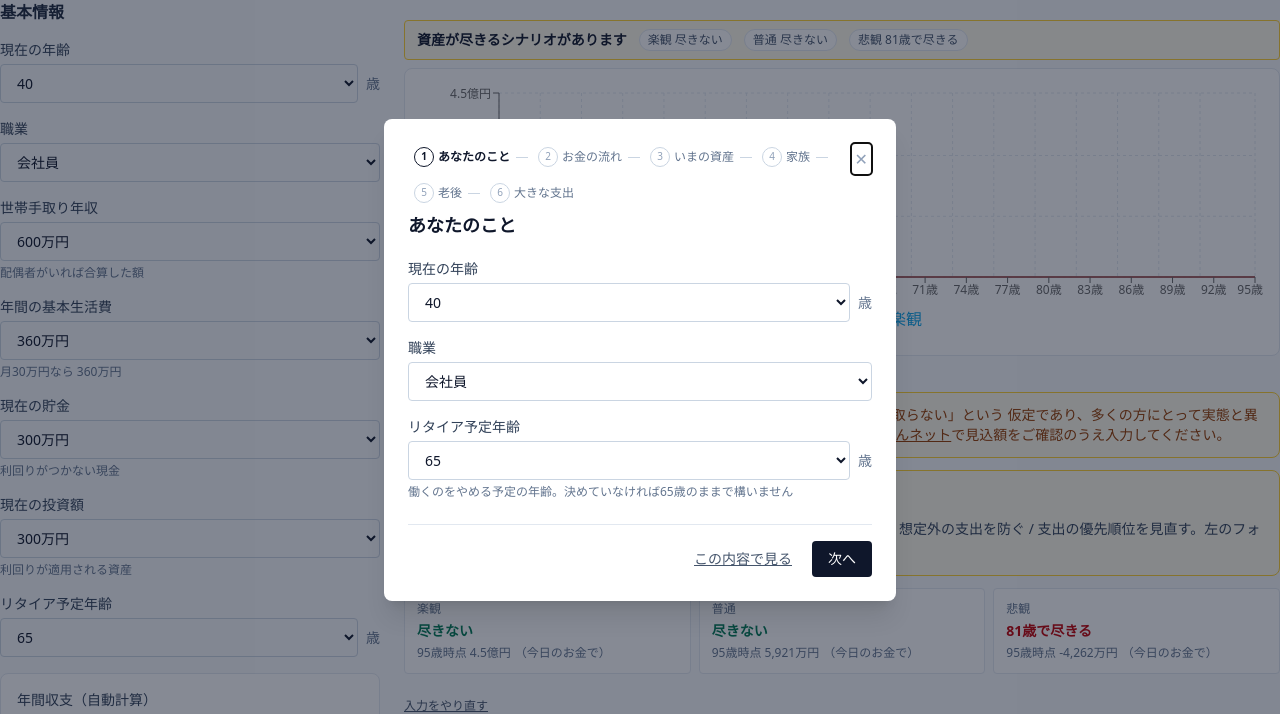
Test: ポップアップ › 既定値のまま1項目も変えずにモーダルを閉じても保存される（Finding M-3）
The image size is (1280, 714).
Expected: the dialog is shown, [384, 119, 896, 601]
Click the button named "閉じる". click: (861, 159)
box: [851, 143, 872, 175]
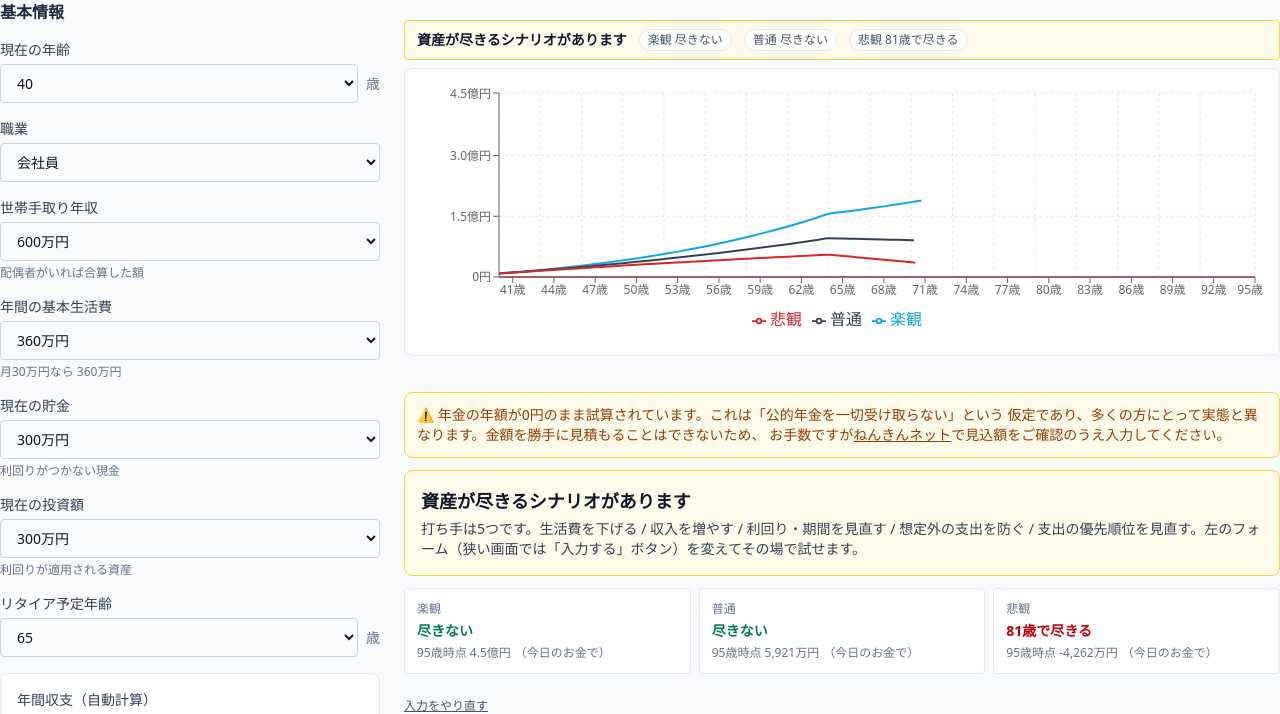
Now the dialog is gone
